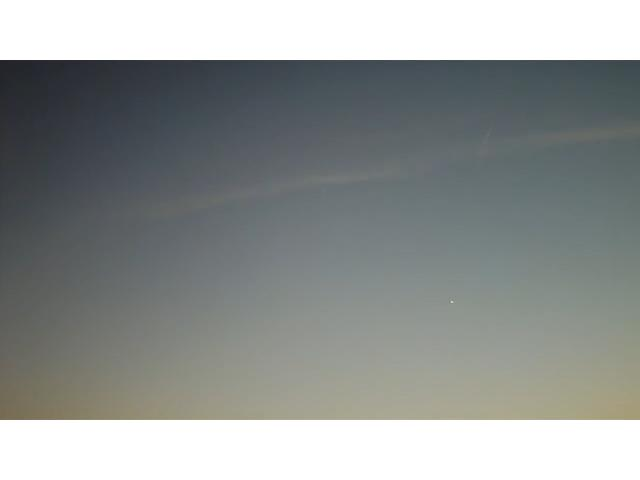Anti-Drone: (447, 297, 465, 311)
